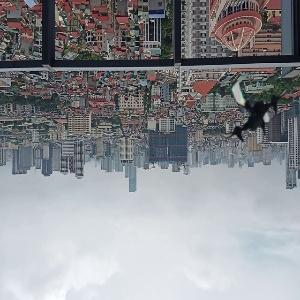drone: (216, 73, 293, 150)
